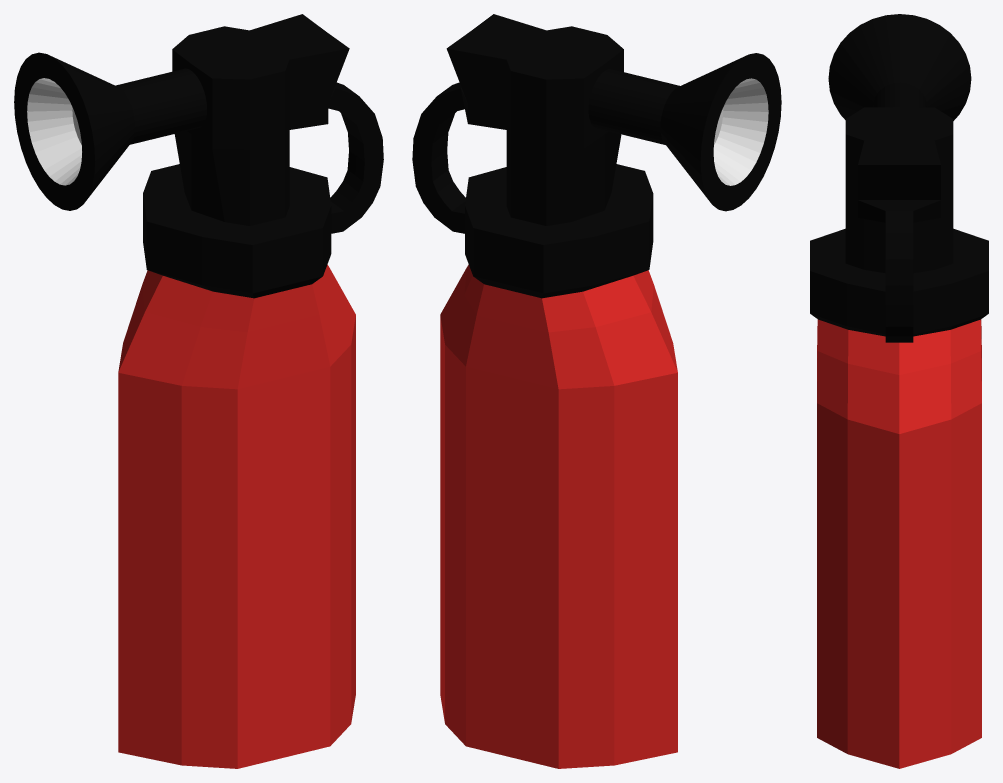
File: extintor.fbx
The picture shows the model from 3 angles, left to right: view 1: azimuth 30°, elevation 25°; view 2: azimuth 150°, elevation 25°; view 3: azimuth 270°, elevation 25°; orthographic projection. The views are drawn at different scales.
Visible parts, largest first — view 1: Cube; view 2: Cube; view 3: Cube.
Part boxes in pixels (left/top/right/bottom): Cube: left=14, top=14, right=383, bottom=768; Cube: left=412, top=14, right=781, bottom=768; Cube: left=810, top=14, right=988, bottom=768.
Size of the model in its own units: 57.38 by 121 by 31.38.
